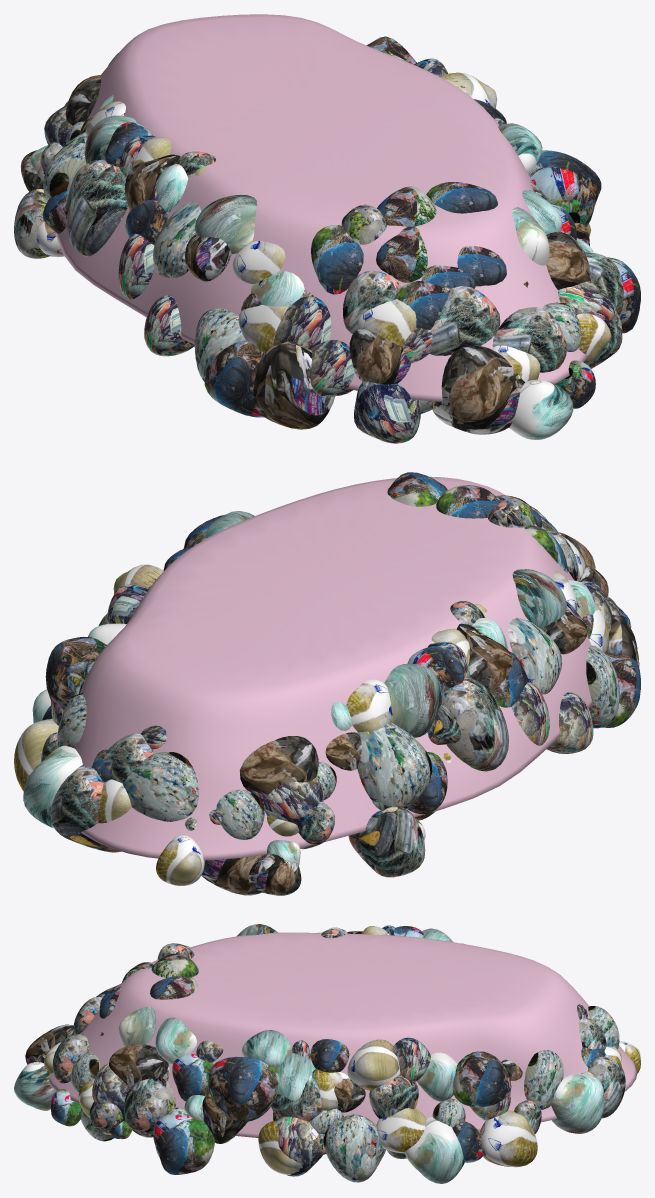
File: PuzzleEnvironmentBase.fbx
3 views of the same model, one above another, from view 1: azimuth 30°, elevation 25°; view 2: azimuth 150°, elevation 25°; view 3: azimuth 270°, elevation 25° (orthographic). The views are drawn at different scales.
Parts seen in each view (by area): view 1: Sphere.157; view 2: Sphere.157; view 3: Sphere.157.
Boxes of the visible parts, x1,y1,x2,y2 form: Sphere.157: (14, 14, 640, 443); Sphere.157: (14, 472, 640, 895); Sphere.157: (14, 924, 640, 1183).
Size of the model in its own units: 678 by 289 by 1111.
